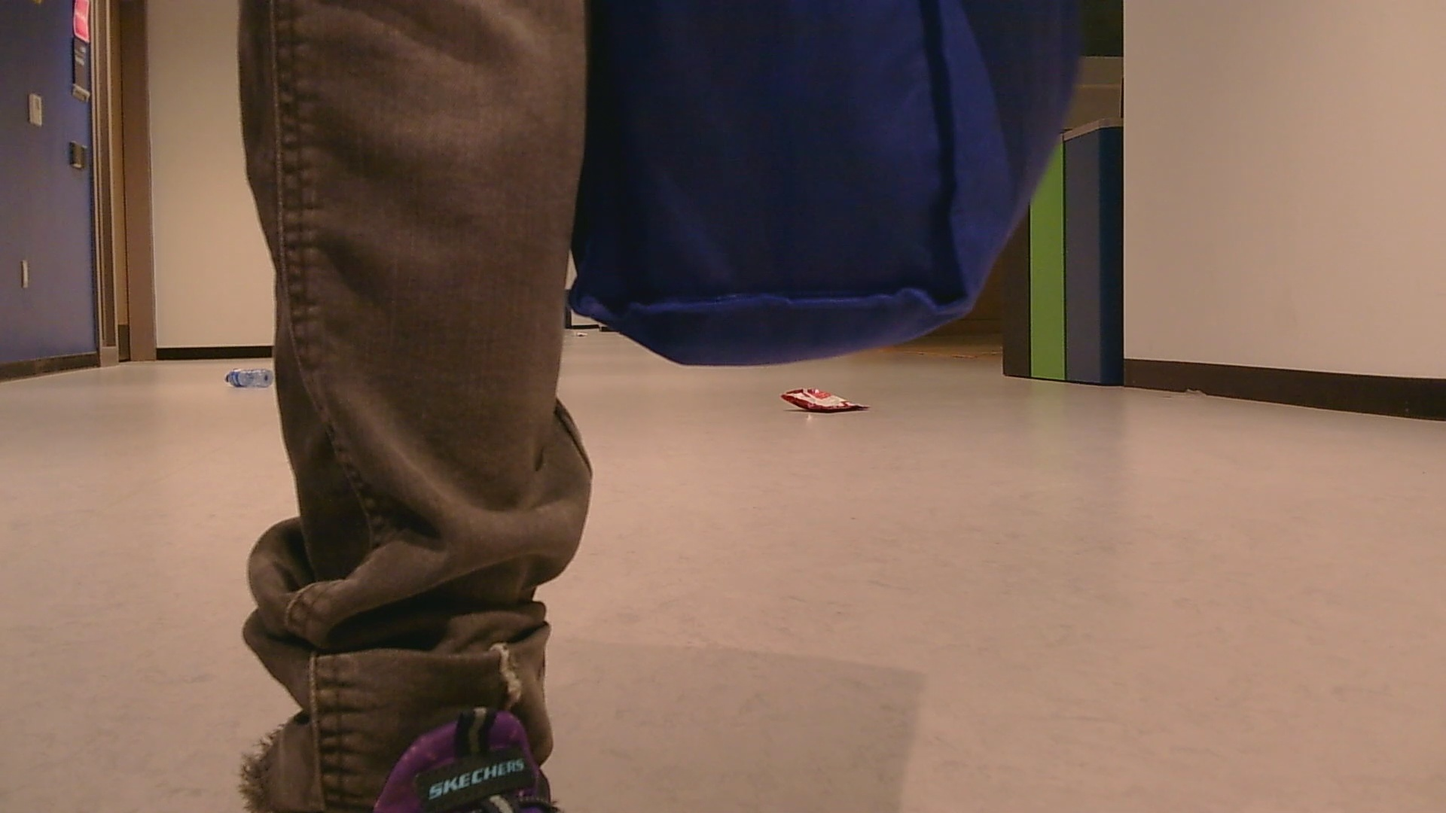carton: (770, 375, 869, 432), (212, 355, 280, 399)
